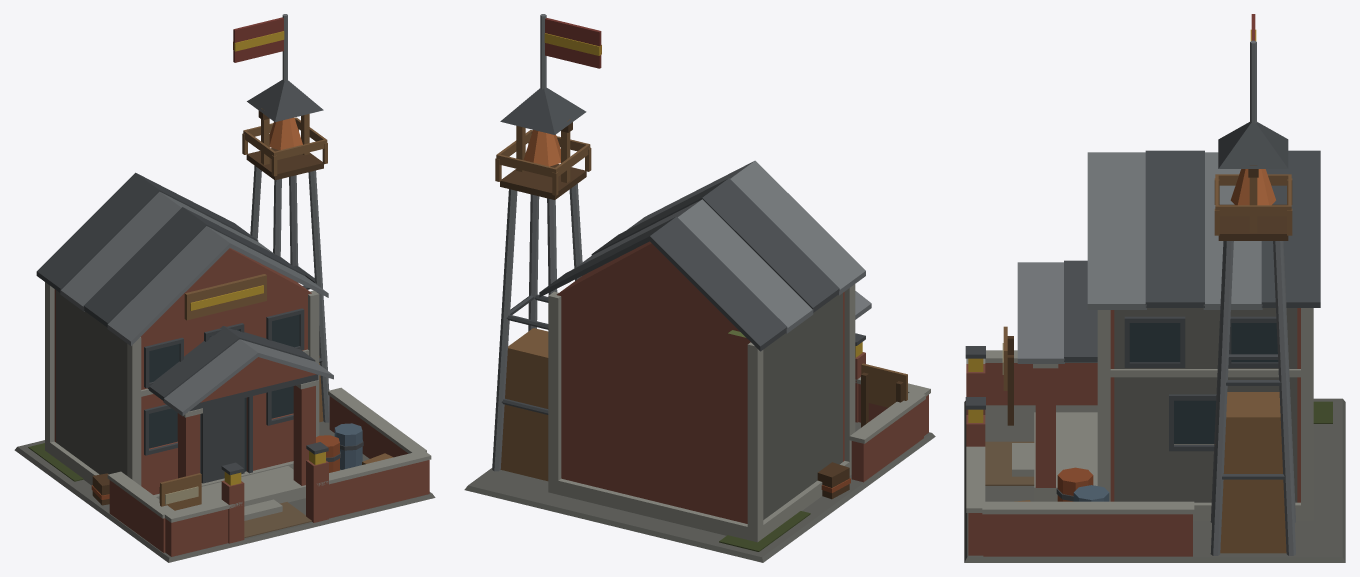
The model's file is town_hall_l2.glb.
3 renders of one model, left to right at view 1: azimuth 30°, elevation 25°; view 2: azimuth 150°, elevation 25°; view 3: azimuth 270°, elevation 25°, orthographic. The views are drawn at different scales.
Parts seen in each view (by area): view 1: town_hall_structure, town_hall_props, town_hall_roof; view 2: town_hall_structure, town_hall_roof, town_hall_props; view 3: town_hall_structure, town_hall_roof, town_hall_props.
Part boxes in pixels (x1,y1,x2,y2): town_hall_structure: (14, 14, 435, 562); town_hall_props: (91, 17, 431, 556); town_hall_roof: (36, 80, 333, 416); town_hall_structure: (464, 14, 935, 562); town_hall_roof: (500, 88, 871, 351); town_hall_props: (523, 18, 930, 499); town_hall_structure: (964, 40, 1345, 562); town_hall_roof: (1017, 122, 1320, 363); town_hall_props: (965, 14, 1300, 556).
Size of the model in its own units: 6 by 8.7 by 6.
